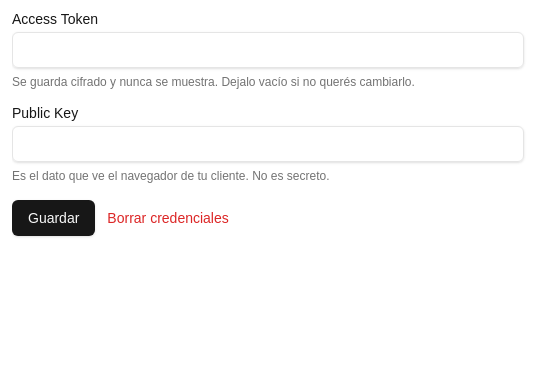
MercadoPagoCredentialsForm - success and warnings › should_show_the_no_payment_method_warning_alongside_a_removal
Click the button "Guardar" at {"x": 54, "y": 218}, box top-left (12, 200), bottom-right (95, 236)
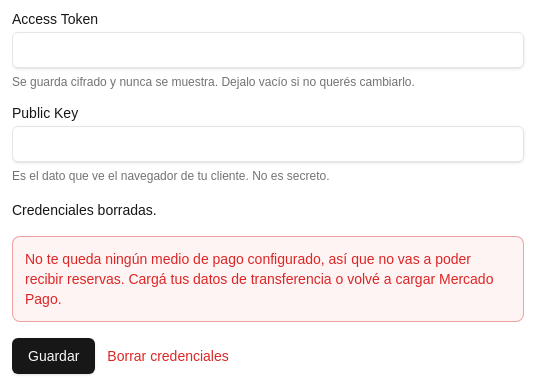
Now the text "Credenciales borradas." is shown, box top-left (12, 202), bottom-right (157, 218)
Now the text "No te queda ningún medio de pago configurado, así que no vas a poder recibir reservas. Cargá tus datos de transferencia " is shown, box top-left (25, 251), bottom-right (494, 307)
